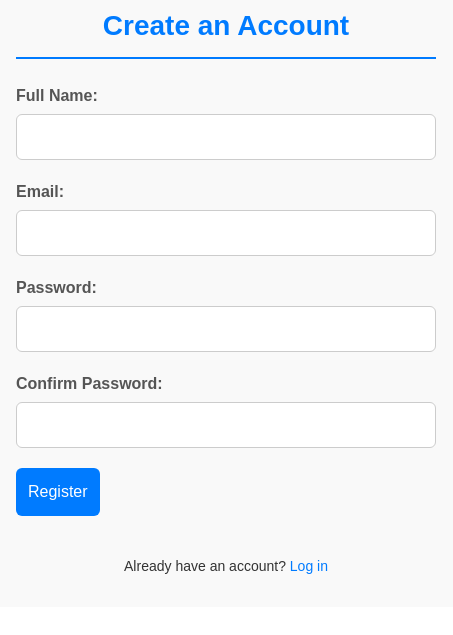
Scenario: <Register /> › shows error if passwords do not match
Type "Test User" into the field with test id "name-input" at (226, 137), box 16,114 -> 436,160
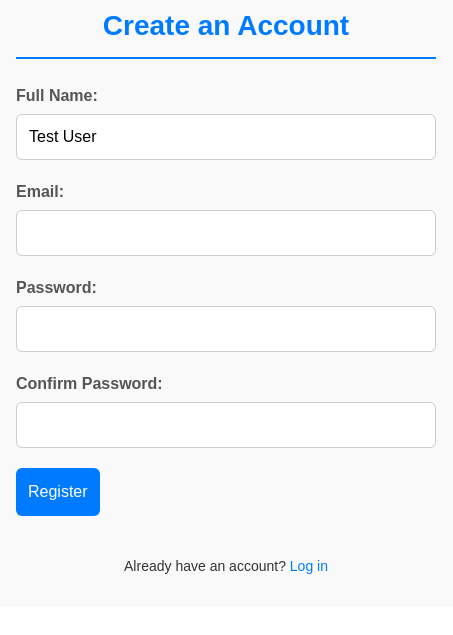
Type "test@example.com" into the field with test id "email-input" at (226, 233), box 16,210 -> 436,256
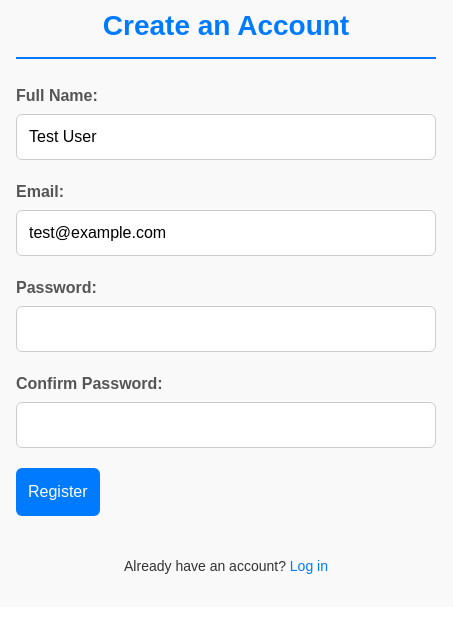
Type "Abc123!" into the password field with test id "password-input" at (226, 329), box 16,306 -> 436,352
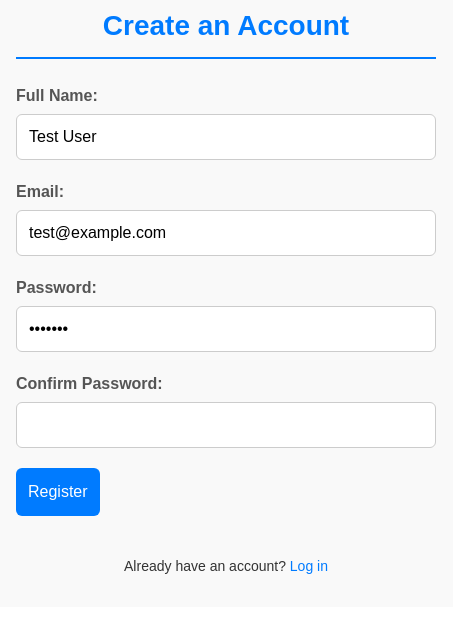
Type "Different1!" into the password field with test id "confirm-password-input" at (226, 425), box 16,402 -> 436,448
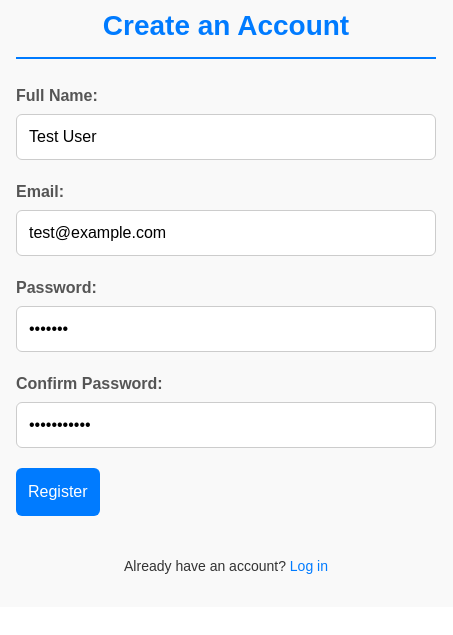
Click the button with test id "register-button" at (58, 492), box 16,468 -> 100,516
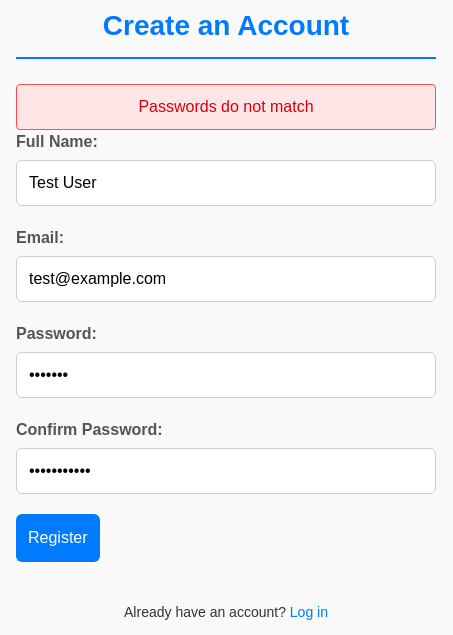
expect the text "Passwords do not match" is shown: met, box 16,84 -> 436,130
